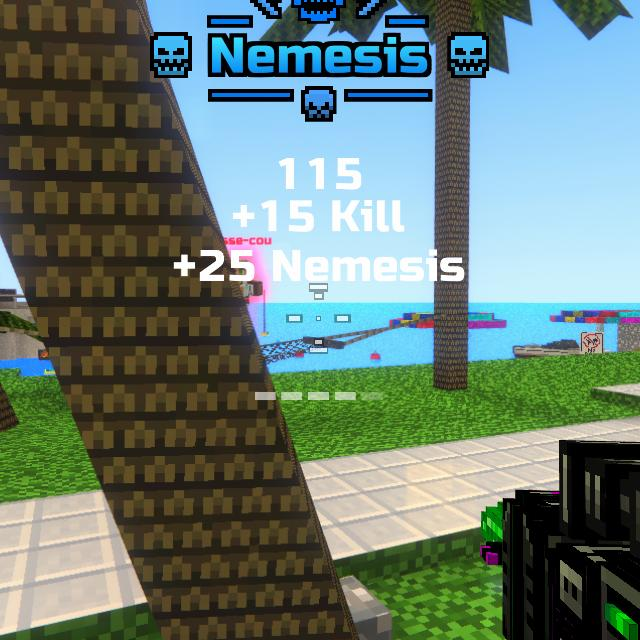Enemy: (227, 255, 260, 336)
